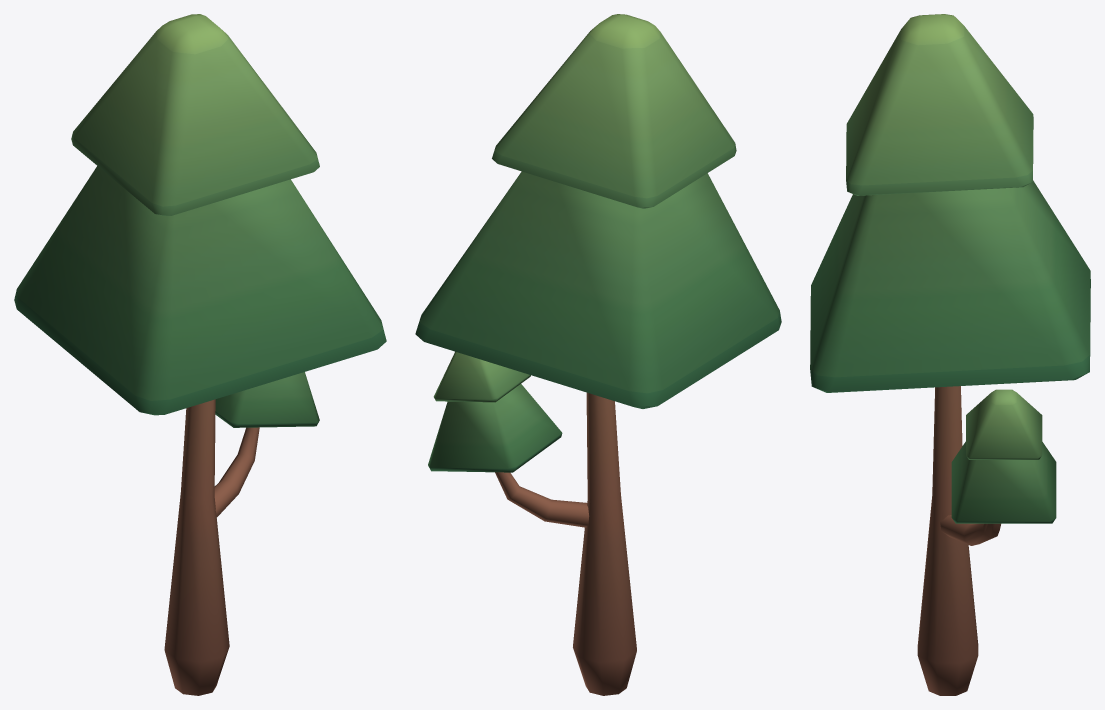
File: tree_4_a-p-AXxnpt.glb
The picture shows the model from 3 angles, left to right: view 1: azimuth 30°, elevation 25°; view 2: azimuth 150°, elevation 25°; view 3: azimuth 270°, elevation 25°; orthographic projection.
Parts seen in each view (by area): view 1: Tree_4_A_Color1; view 2: Tree_4_A_Color1; view 3: Tree_4_A_Color1.
Part boxes in pixels (left/top/right/bottom): Tree_4_A_Color1: left=14, top=14, right=386, bottom=695; Tree_4_A_Color1: left=415, top=14, right=781, bottom=695; Tree_4_A_Color1: left=810, top=14, right=1090, bottom=695.
Bounding box in the file's own units: 2.61 × 6.86 × 2.61.
1 material, 1 textured.
